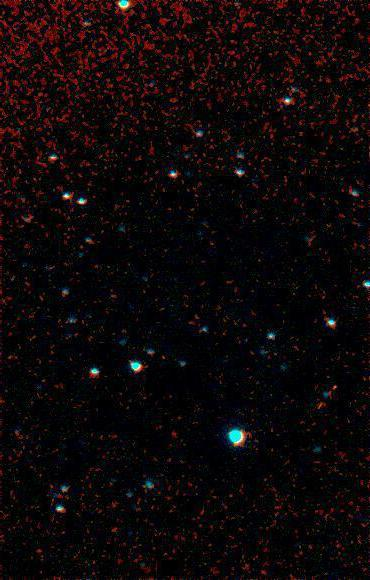star: (148, 344, 178, 374)
